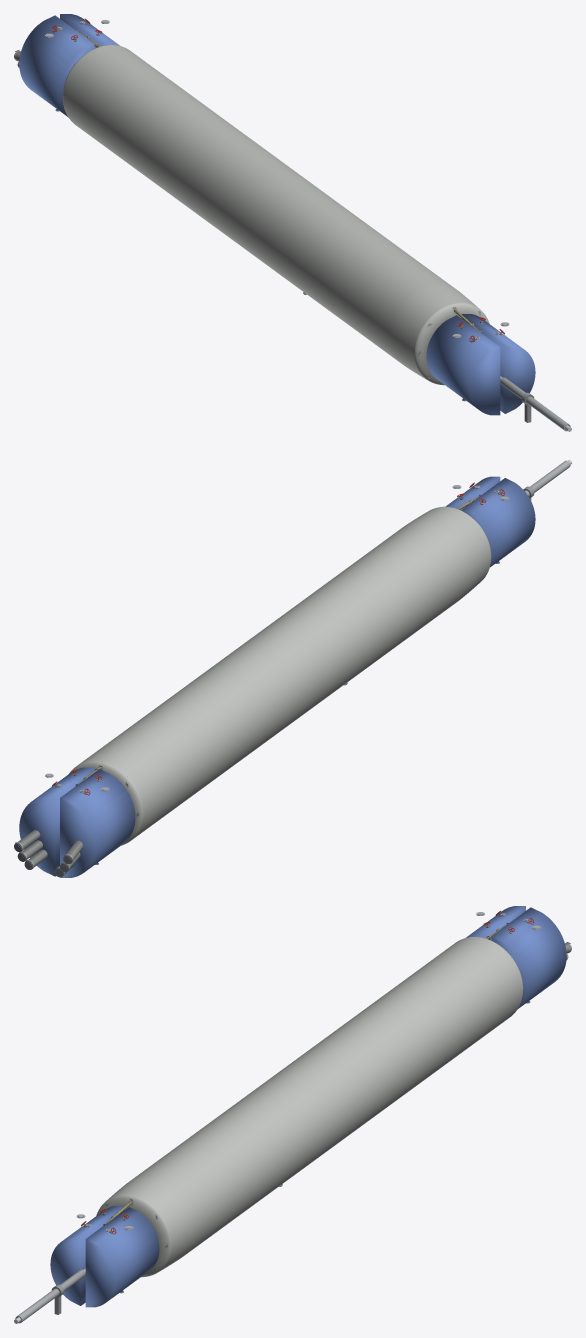
Rendered from sx1-interior.glb.
3 renders of one model, top to bottom at view 1: azimuth 30°, elevation 25°; view 2: azimuth 150°, elevation 25°; view 3: azimuth 330°, elevation 25°, orthographic.
Parts seen in each view (by area): view 1: SX1I_CascoResistente_Malha, SX1I_Tanque_TLP2BB_Malha, SX1I_Tanque_TLP1BB_Malha, SX1I_Tanque_TLP2BE_Malha, SX1I_Antepara_Re_Malha, SX1I_Tanque_TLP1BE_Malha, SX1I_TuboTelescopico_Malha; view 2: SX1I_CascoResistente_Malha, SX1I_Tanque_TLP1BB_Malha, SX1I_Tanque_TLP2BB_Malha, SX1I_Tanque_TLP1BE_Malha, SX1I_Antepara_Vante_Malha, SX1I_Tanque_TLP2BE_Malha; view 3: SX1I_CascoResistente_Malha, SX1I_Tanque_TLP2BE_Malha, SX1I_Tanque_TLP1BE_Malha, SX1I_Tanque_TLP2BB_Malha, SX1I_Antepara_Re_Malha, SX1I_Tanque_TLP1BB_Malha, SX1I_TuboTelescopico_Malha.
Boxes of the visible parts, x1,y1,x2,y2 form: SX1I_CascoResistente_Malha: (63, 45, 479, 379); SX1I_Tanque_TLP2BB_Malha: (426, 315, 500, 415); SX1I_Tanque_TLP1BB_Malha: (19, 15, 94, 117); SX1I_Tanque_TLP2BE_Malha: (461, 314, 535, 413); SX1I_Antepara_Re_Malha: (414, 303, 489, 385); SX1I_Tanque_TLP1BE_Malha: (60, 14, 119, 48); SX1I_TuboTelescopico_Malha: (500, 377, 570, 431); SX1I_CascoResistente_Malha: (78, 507, 490, 838); SX1I_Tanque_TLP1BB_Malha: (60, 769, 135, 877); SX1I_Tanque_TLP2BB_Malha: (461, 478, 535, 567); SX1I_Tanque_TLP1BE_Malha: (19, 767, 94, 876); SX1I_Antepara_Vante_Malha: (69, 761, 143, 845); SX1I_Tanque_TLP2BE_Malha: (446, 476, 500, 510); SX1I_CascoResistente_Malha: (106, 937, 522, 1271); SX1I_Tanque_TLP2BE_Malha: (85, 1207, 159, 1307); SX1I_Tanque_TLP1BE_Malha: (491, 907, 566, 1009); SX1I_Tanque_TLP2BB_Malha: (50, 1206, 124, 1305); SX1I_Antepara_Re_Malha: (96, 1195, 171, 1277); SX1I_Tanque_TLP1BB_Malha: (466, 906, 525, 940); SX1I_TuboTelescopico_Malha: (15, 1269, 85, 1323).
Size of the model in its own units: 5.9 by 5.95 by 67.34.
